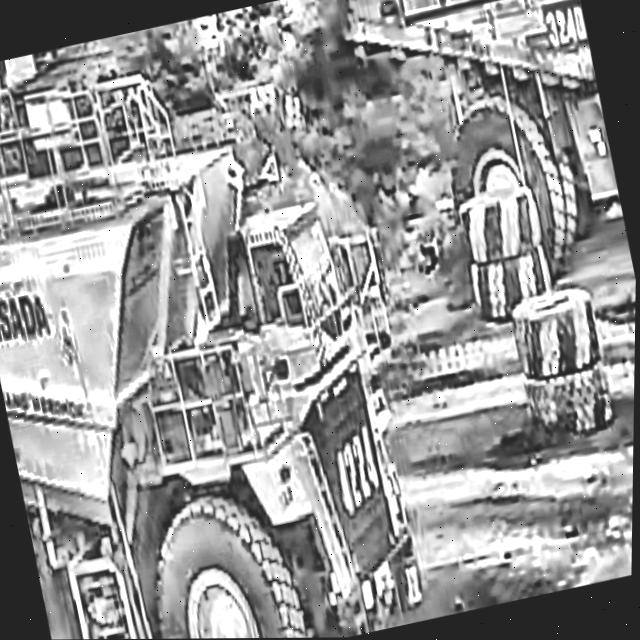dump_truck: (0, 11, 461, 640)
